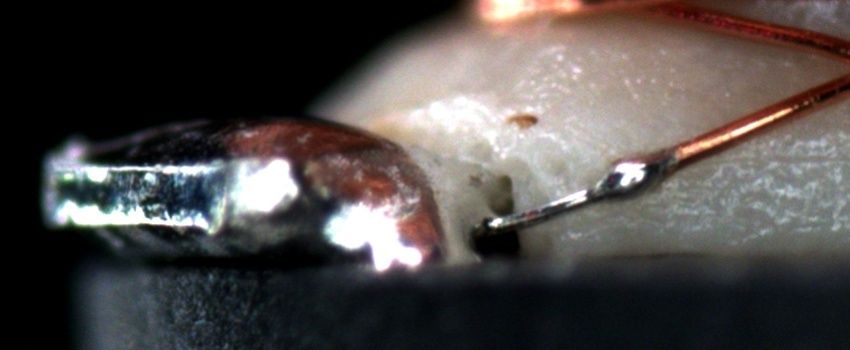DL: (681, 127, 849, 186)
TB: (586, 152, 671, 212)
TS: (486, 153, 676, 232)
TTCW: (486, 130, 717, 235)
